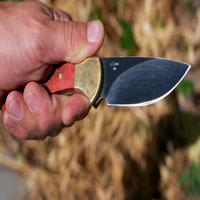knife: (16, 28, 197, 123)
